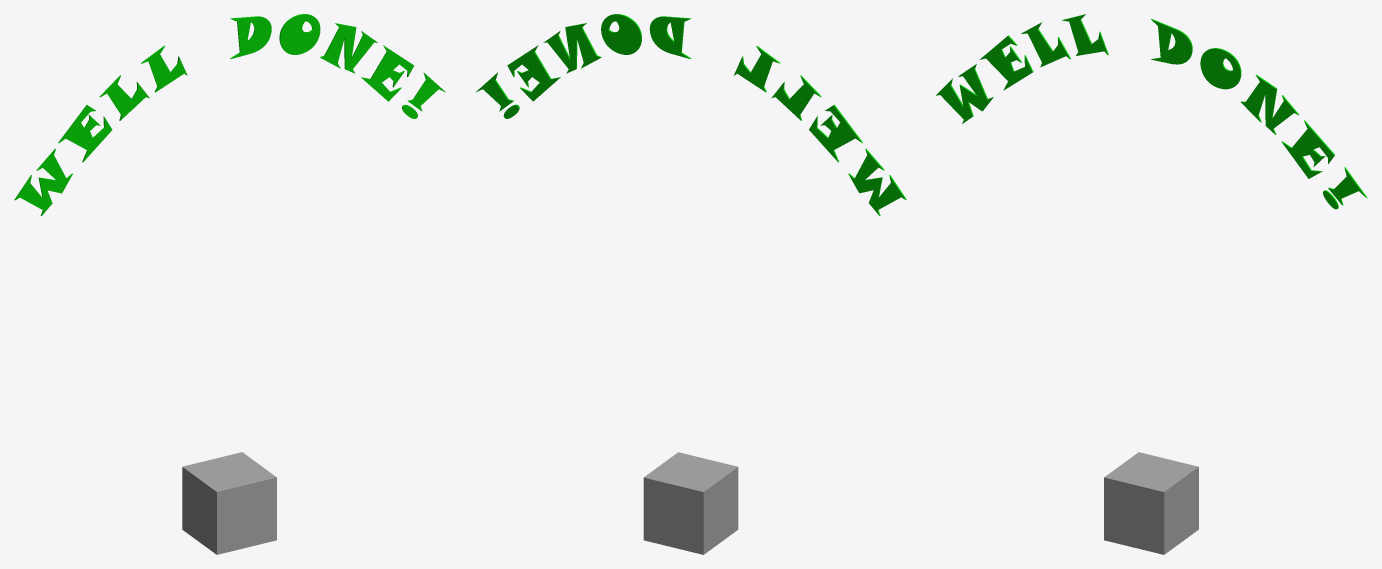
File: WELLDONEAnim.fbx
3 renders of one model, left to right at view 1: azimuth 30°, elevation 25°; view 2: azimuth 150°, elevation 25°; view 3: azimuth 330°, elevation 25°, orthographic.
Visible parts, largest first — view 1: WELLDONE, WordMarker; view 2: WELLDONE, WordMarker; view 3: WELLDONE, WordMarker.
Boxes of the visible parts, x1,y1,x2,y2 form: WELLDONE: (14, 14, 445, 215); WordMarker: (182, 452, 276, 554); WELLDONE: (475, 14, 906, 215); WordMarker: (643, 452, 738, 554); WELLDONE: (936, 14, 1367, 209); WordMarker: (1104, 452, 1198, 554).
Bounding box in the file's own units: 7.18 × 8.21 × 1.
